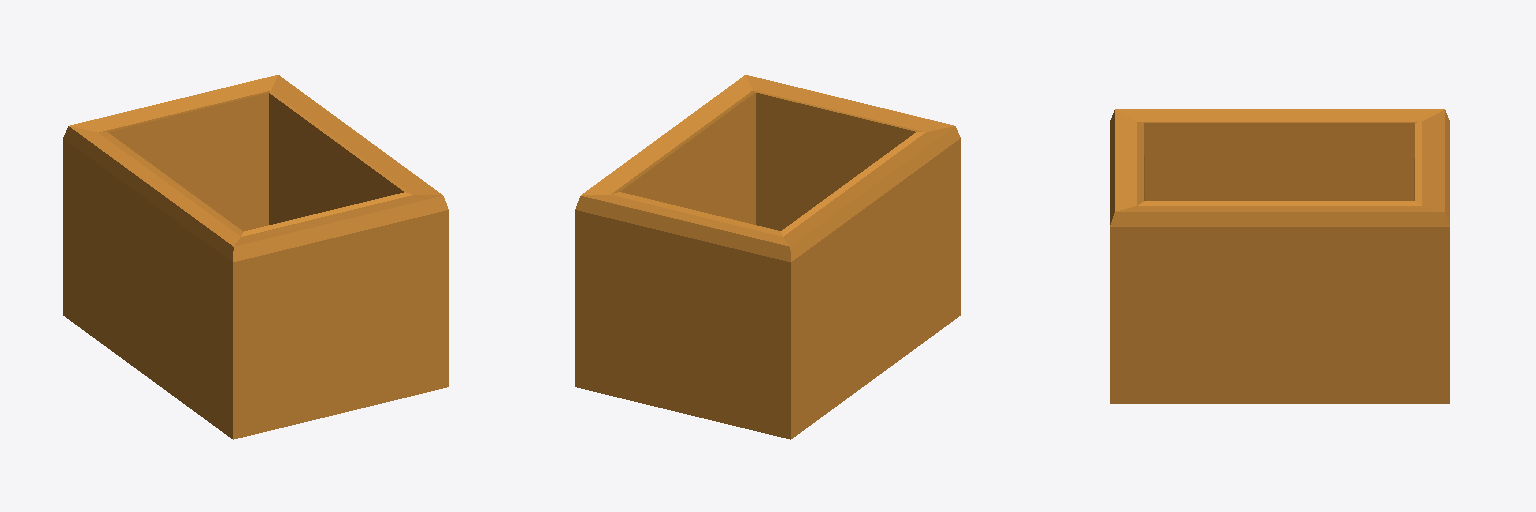
Rendered from lisainthecube.obj.
3 views of the same model, side by side, from view 1: azimuth 30°, elevation 25°; view 2: azimuth 150°, elevation 25°; view 3: azimuth 270°, elevation 25° (orthographic).
Parts seen in each view (by area): view 1: Wall_Art_Classical_Plane; view 2: Wall_Art_Classical_Plane; view 3: Wall_Art_Classical_Plane.
Boxes of the visible parts, x1=… form: Wall_Art_Classical_Plane: x1=63, y1=75, x2=448, y2=439; Wall_Art_Classical_Plane: x1=575, y1=75, x2=960, y2=439; Wall_Art_Classical_Plane: x1=1110, y1=109, x2=1449, y2=403.
Bounding box in the file's own units: 9.89 × 8.34 × 13.49.